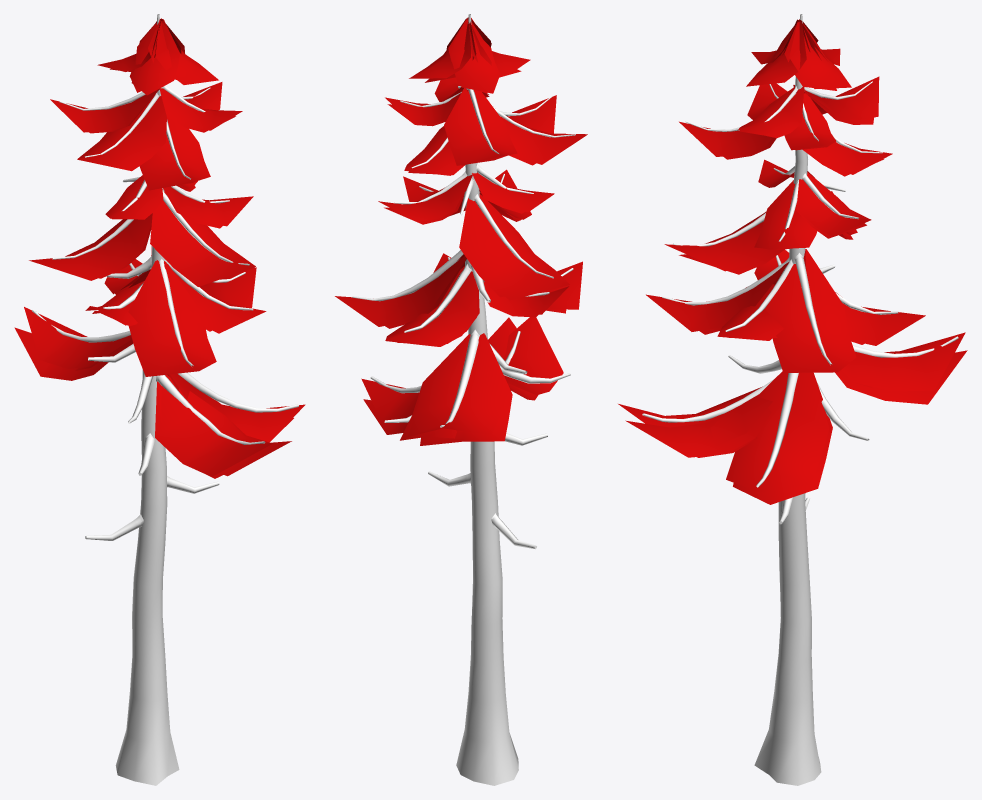
File: SM_tree_04.FBX
3 views of the same model, side by side, from view 1: azimuth 30°, elevation 25°; view 2: azimuth 150°, elevation 25°; view 3: azimuth 270°, elevation 25° (orthographic).
Parts seen in each view (by area): view 1: SM_tree_04_LOD0; view 2: SM_tree_04_LOD0; view 3: SM_tree_04_LOD0.
Boxes of the visible parts, <box> form: SM_tree_04_LOD0: <box>14,14,305,785</box>; SM_tree_04_LOD0: <box>335,14,587,785</box>; SM_tree_04_LOD0: <box>618,14,967,785</box>.
Size of what is drawn, in the model's own units: 925 by 1137 by 2737.
